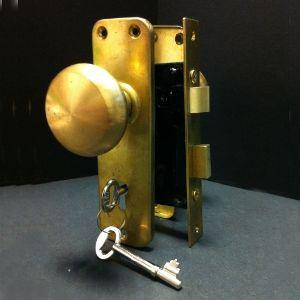doorhandle: (25, 56, 155, 162)
